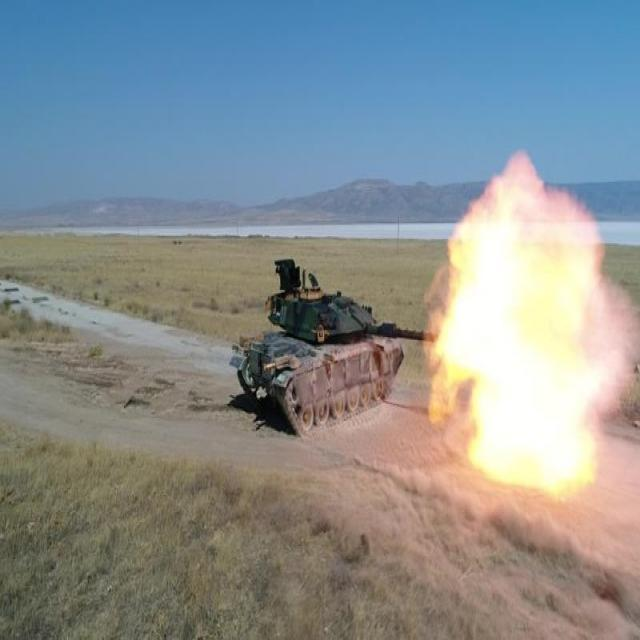tank: (228, 258, 418, 440)
